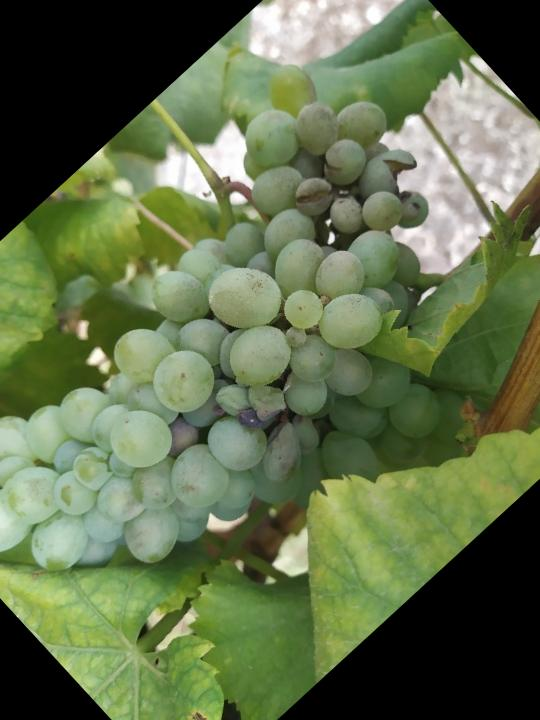grape: (0, 47, 540, 719)
